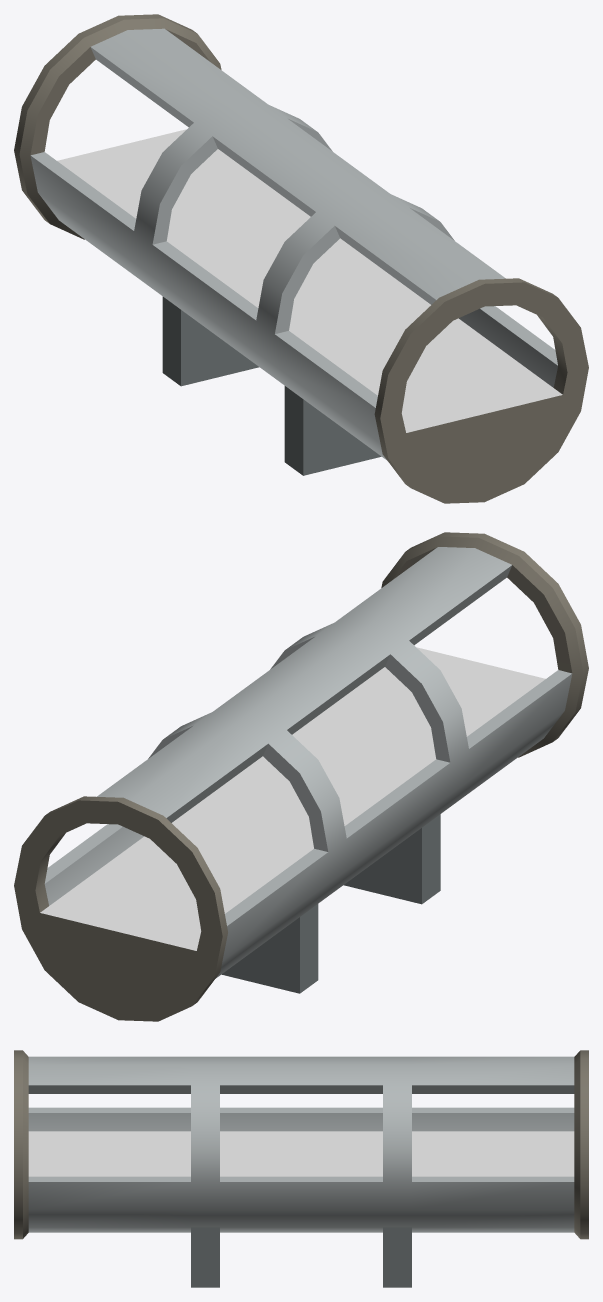
Rendered from m_Dev_Conveyor.fbx.
The picture shows the model from 3 angles, top to bottom: view 1: azimuth 30°, elevation 25°; view 2: azimuth 150°, elevation 25°; view 3: azimuth 270°, elevation 25°; orthographic projection. The views are drawn at different scales.
Parts seen in each view (by area): view 1: Conveyor; view 2: Conveyor; view 3: Conveyor.
Boxes of the visible parts, left/top/right/bottom form: Conveyor: left=14, top=14, right=588, bottom=503; Conveyor: left=14, top=532, right=588, bottom=1021; Conveyor: left=14, top=1050, right=588, bottom=1287.
Size of the model in its own units: 65.8 by 77.66 by 200.
